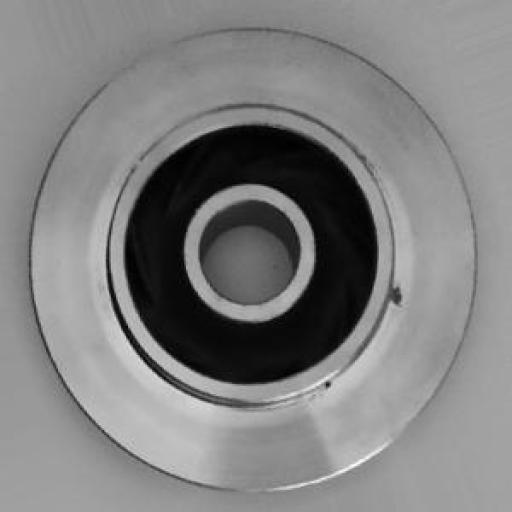defect: (354, 254, 426, 344)
